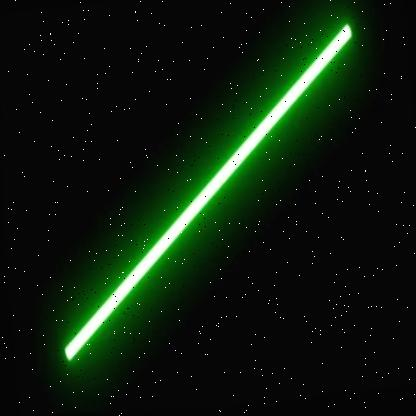lightsaber: (32, 22, 382, 373)
